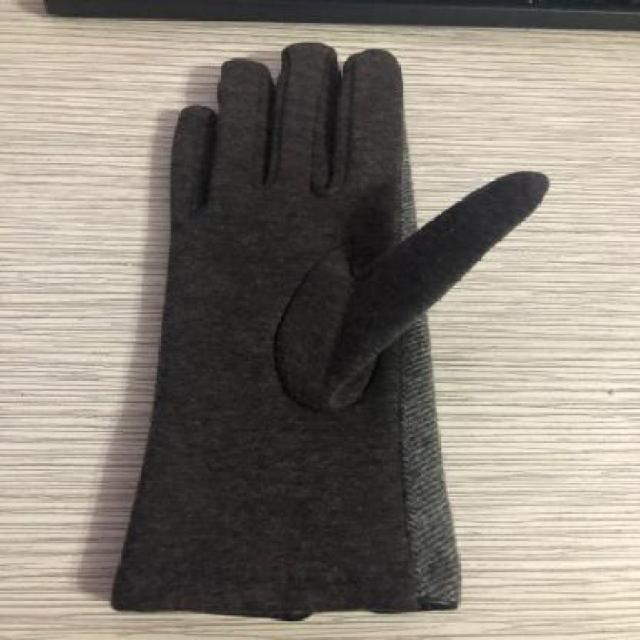Gloves: (109, 35, 555, 621)
